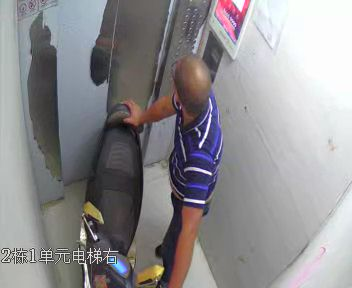Electric-bicycle: (81, 102, 162, 287)
